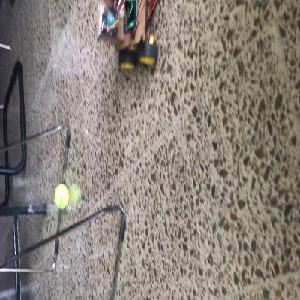Ball: (52, 185, 69, 208)
Robot: (98, 2, 158, 69)
